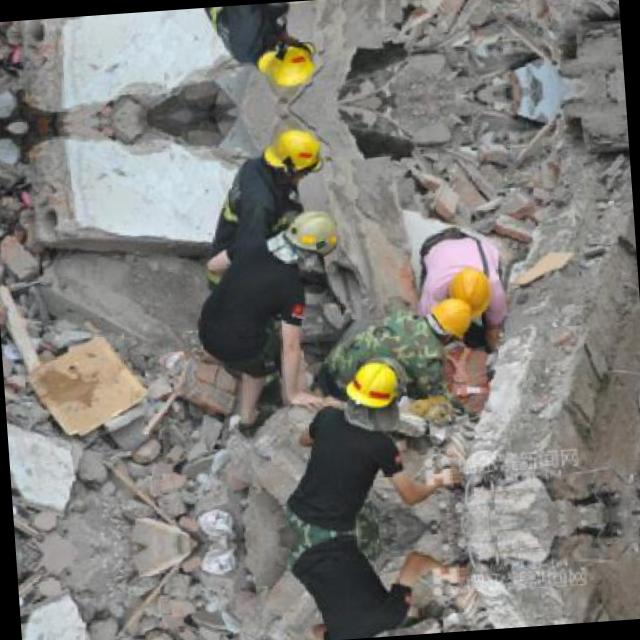helmet: (262, 124, 330, 188), (255, 25, 322, 89), (443, 262, 502, 321), (280, 202, 338, 260), (344, 356, 400, 415), (426, 292, 472, 339)
